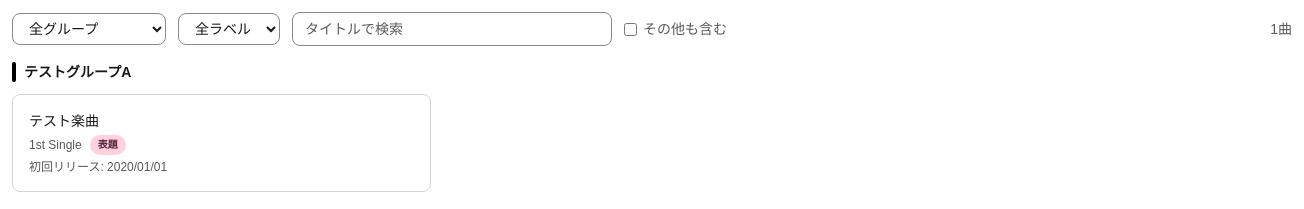
Scenario: SongBrowser のEmpty分岐 › filter適用で0件になったとき、no-matchの文言とresetボタンが出る
The width and height of the screenshot is (1304, 209).
表題ラベルのみのfixtureに対し「選抜」で絞り込むと0件になる
Select "選抜" in the dropdown named "ラベルで絞り込み" at (229, 29), box [178, 13, 280, 45]
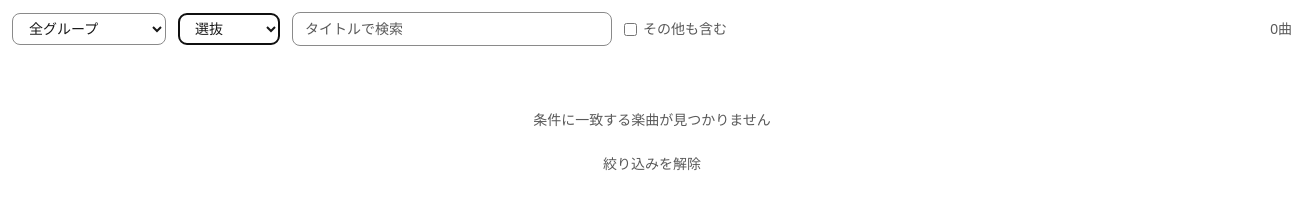
expect the text "条件に一致する楽曲が見つかりません" is shown: met, box [533, 112, 771, 128]
expect the button "絞り込みを解除" is shown: met, box [587, 142, 717, 186]
